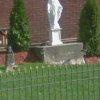Statue: (36, 1, 76, 58)
